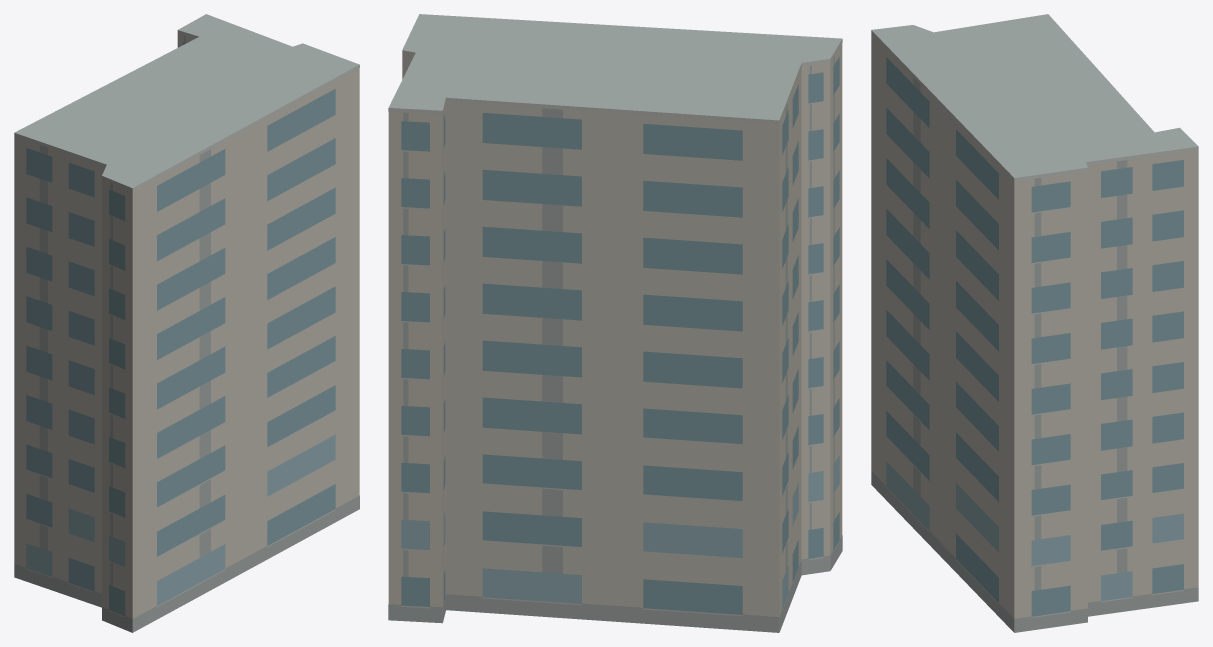
File: residential-84ed6478-afbb-4d42-a5bb-c4eb7bb4b7a5.glb
3 views of the same model, side by side, from view 1: azimuth 30°, elevation 25°; view 2: azimuth 150°, elevation 25°; view 3: azimuth 270°, elevation 25° (orthographic). The views are drawn at different scales.
Visible parts, largest first — view 1: residential-84ed6478-afbb-4d42-a5bb-c4eb7bb4b7a5.tmp; view 2: residential-84ed6478-afbb-4d42-a5bb-c4eb7bb4b7a5.tmp; view 3: residential-84ed6478-afbb-4d42-a5bb-c4eb7bb4b7a5.tmp.
Boxes of the visible parts, box(x1,y1,x2,y2) form: residential-84ed6478-afbb-4d42-a5bb-c4eb7bb4b7a5.tmp: box(14, 14, 359, 632); residential-84ed6478-afbb-4d42-a5bb-c4eb7bb4b7a5.tmp: box(388, 14, 842, 632); residential-84ed6478-afbb-4d42-a5bb-c4eb7bb4b7a5.tmp: box(871, 14, 1198, 632).
Bounding box in the file's own units: 24.79 × 32 × 20.89.
